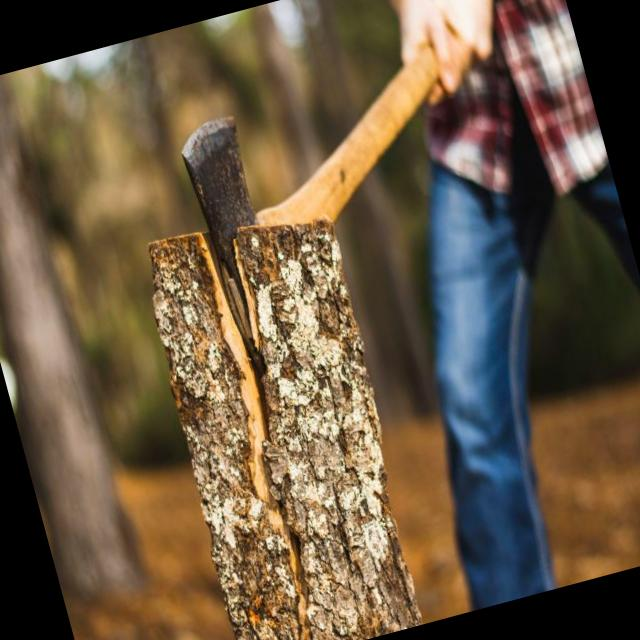Axe: (182, 45, 439, 337)
